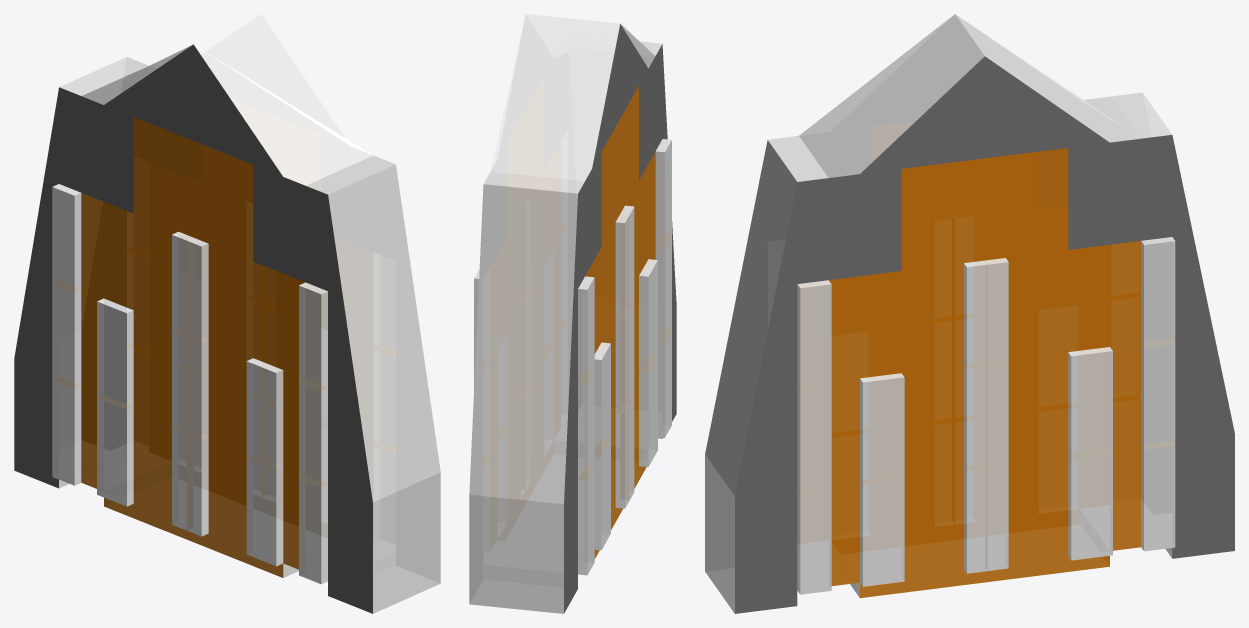
Rendered from shield.fbx.
3 renders of one model, left to right at view 1: azimuth 30°, elevation 25°; view 2: azimuth 150°, elevation 25°; view 3: azimuth 270°, elevation 25°, orthographic. The views are drawn at different scales.
Visible parts, largest first — view 1: Cube; view 2: Cube; view 3: Cube.
Part boxes in pixels (x1=…): Cube: x1=14, y1=14, x2=440, y2=613; Cube: x1=469, y1=14, x2=676, y2=613; Cube: x1=705, y1=14, x2=1234, y2=613.
Bounding box in the file's own units: 72.57 × 169 × 154.
